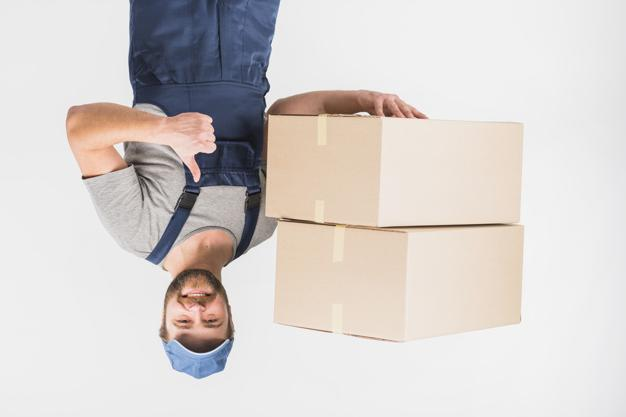thumbsdown: (184, 112, 217, 183)
